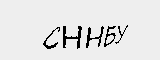Б: (103, 22, 117, 48)
Н: (62, 22, 83, 51), (86, 25, 104, 49)
С: (41, 24, 61, 52)
У: (114, 22, 129, 46)
